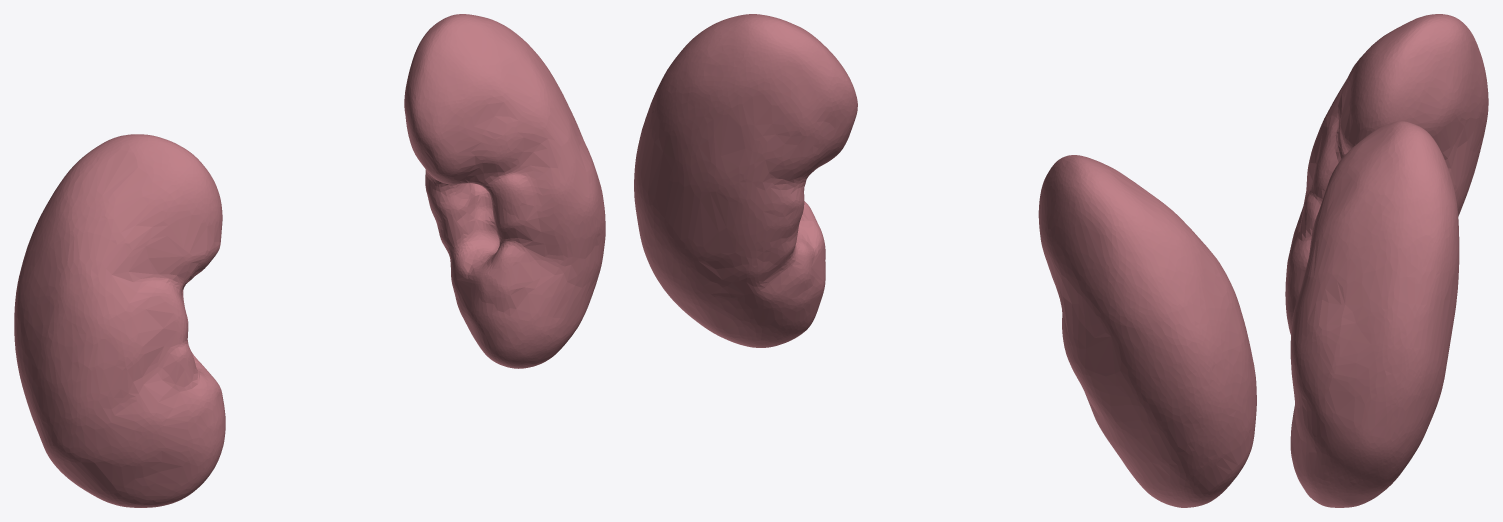
The picture shows the model from 3 angles, left to right: view 1: azimuth 30°, elevation 25°; view 2: azimuth 150°, elevation 25°; view 3: azimuth 270°, elevation 25°; orthographic projection. The views are drawn at different scales.
Visible parts, largest first — view 1: right_kidney, left_kidney; view 2: left_kidney, right_kidney; view 3: left_kidney, right_kidney.
Part boxes in pixels (left/top/right/bottom): right_kidney: left=14, top=134, right=225, bottom=507; left_kidney: left=404, top=14, right=605, bottom=368; left_kidney: left=634, top=14, right=857, bottom=347; right_kidney: left=1038, top=155, right=1256, bottom=507; left_kidney: left=1290, top=121, right=1459, bottom=507; right_kidney: left=1285, top=14, right=1488, bottom=334.
Bounding box in the file's own units: 181 × 118 × 53.08.
